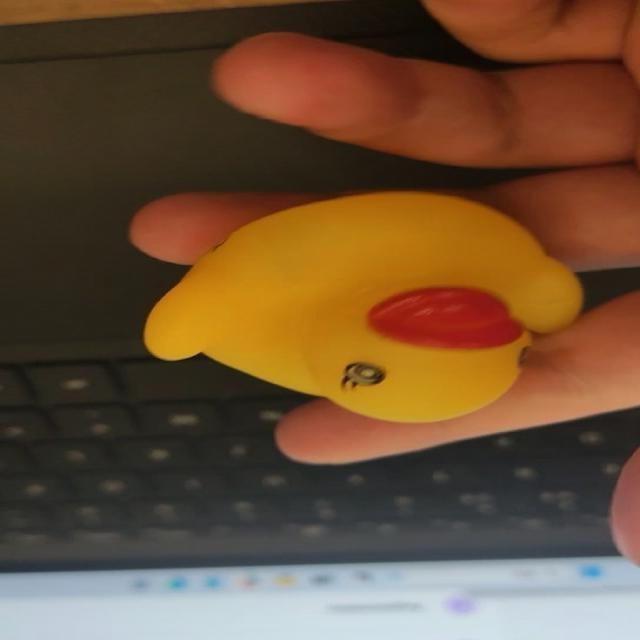rubber-duck: (143, 191, 580, 420)
